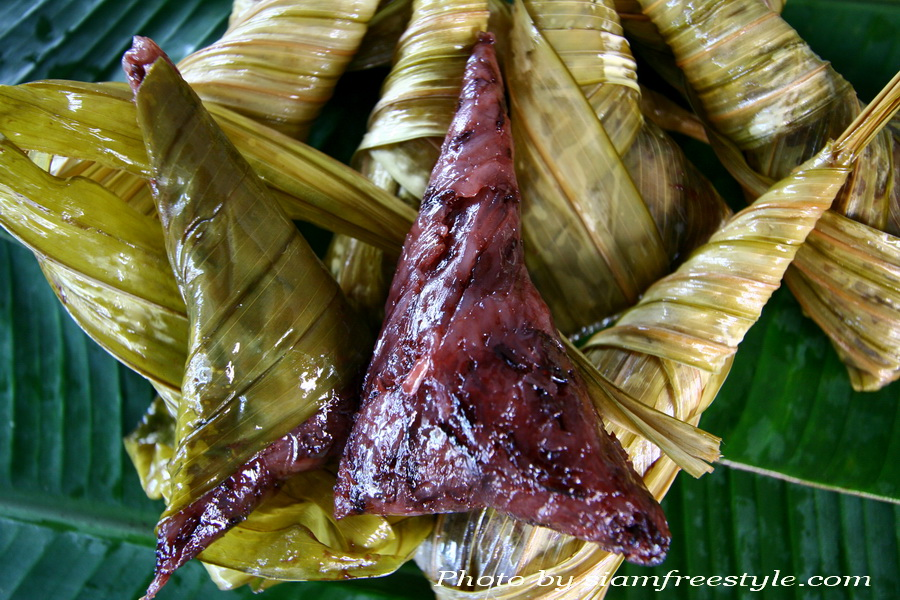kanomtom: (322, 24, 697, 566), (102, 20, 442, 580)
